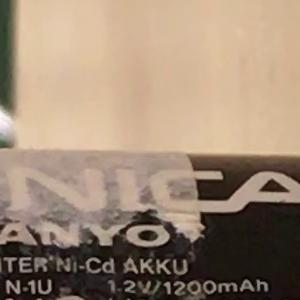keyword: (41, 249, 123, 276)
